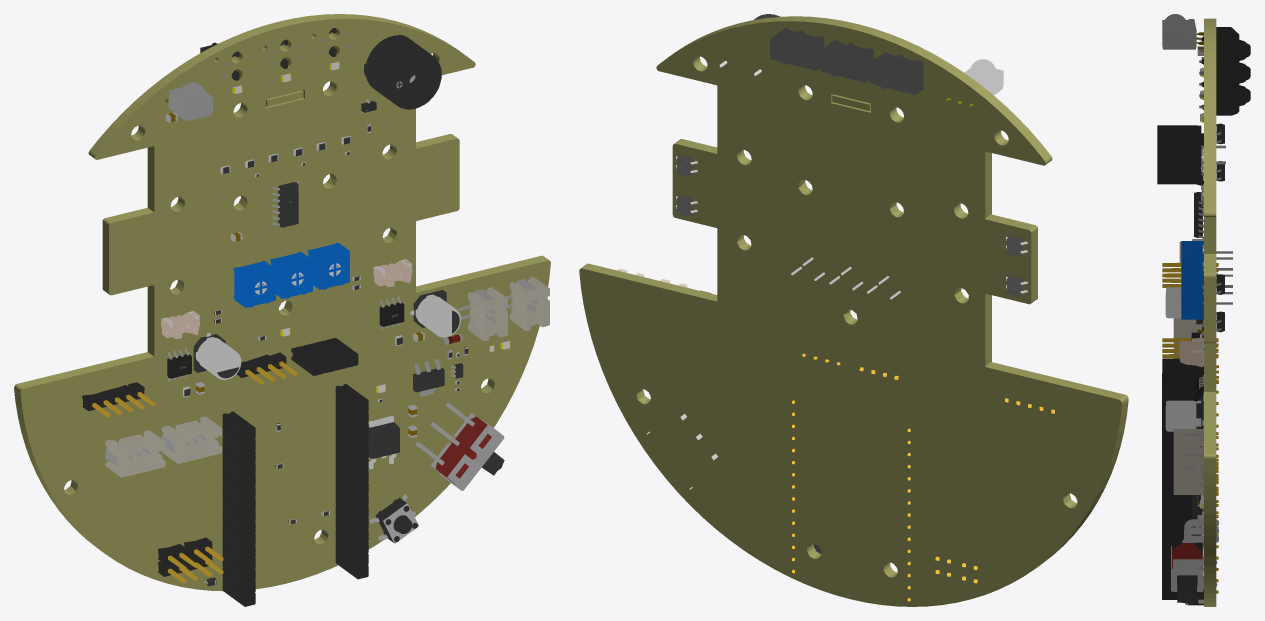
3 renders of one model, left to right at view 1: azimuth 30°, elevation 25°; view 2: azimuth 150°, elevation 25°; view 3: azimuth 270°, elevation 25°, orthographic. The views are drawn at different scales.
Bounding box in the file's own units: 470 × 472 × 74.96.
